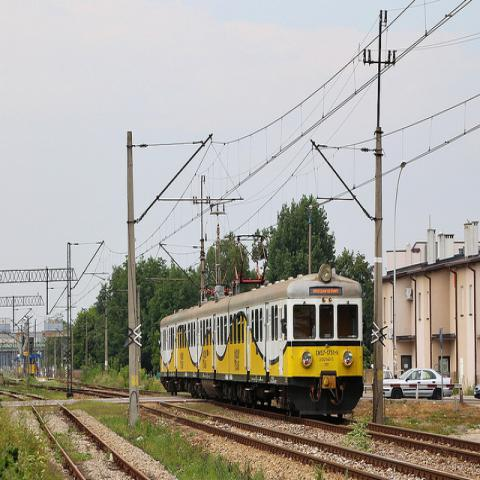car: (384, 368, 455, 400)
